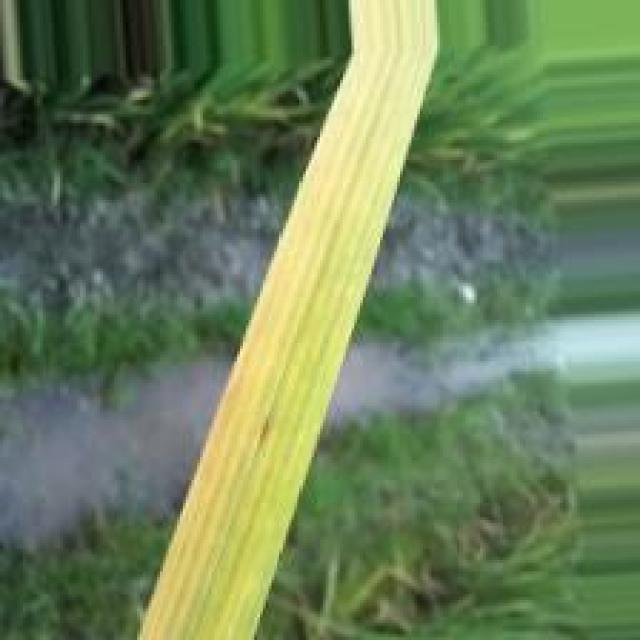Brown_Spot: (257, 413, 277, 450)
